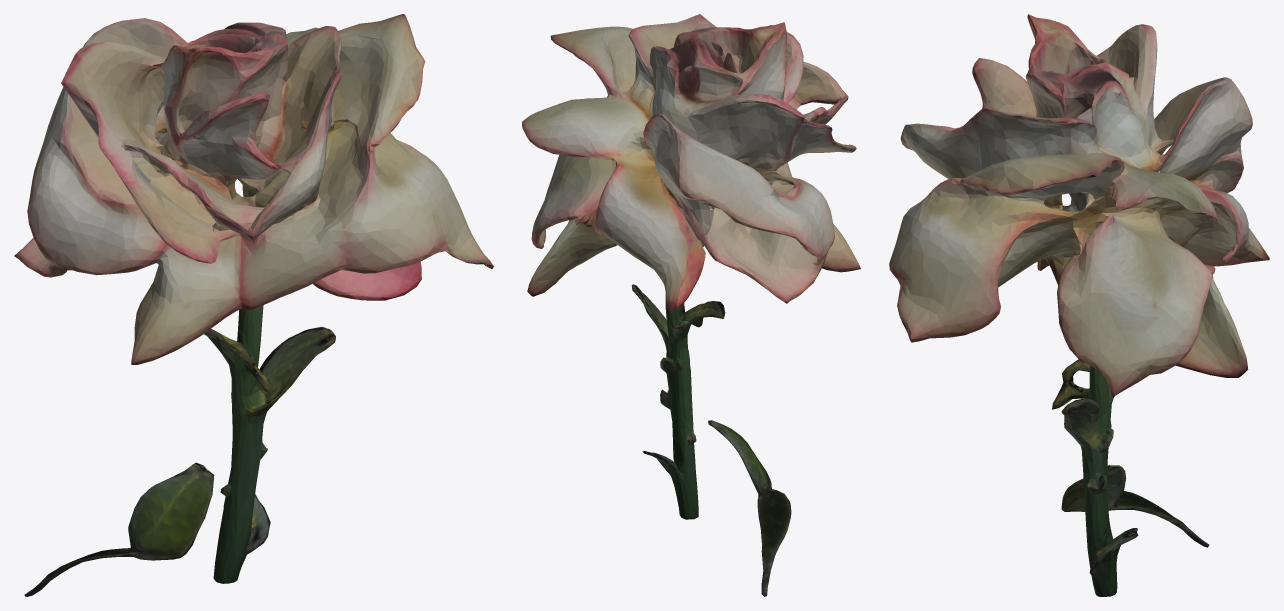
3 views of the same model, side by side, from view 1: azimuth 30°, elevation 25°; view 2: azimuth 150°, elevation 25°; view 3: azimuth 270°, elevation 25° (orthographic). The views are drawn at different scales.
Parts seen in each view (by area): view 1: world; view 2: world; view 3: world.
Boxes of the visible parts, <box> form: world: <box>14,14,493,596</box>; world: <box>522,14,860,596</box>; world: <box>889,14,1269,596</box>.
Bounding box in the file's own units: 0.5701 × 0.947 × 0.5767.
1 material, 1 textured.
